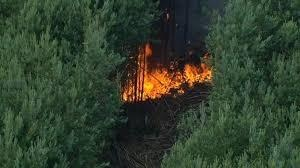fire: (120, 42, 213, 99)
